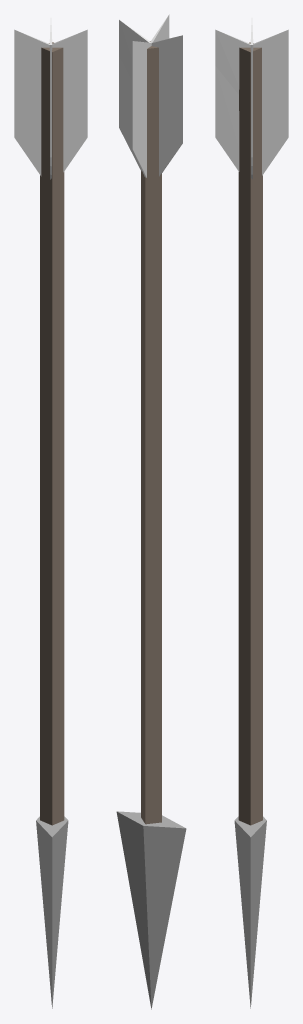
File: wooden_arrow.glb
The picture shows the model from 3 angles, left to right: view 1: azimuth 90°, elevation 25°; view 2: azimuth 150°, elevation 25°; view 3: azimuth 270°, elevation 25°; orthographic projection.
Parts seen in each view (by area): view 1: bow_arrow, bow_arrow.001; view 2: bow_arrow, bow_arrow.001; view 3: bow_arrow, bow_arrow.001.
Boxes of the visible parts, x1,y1,x2,y2 form: bow_arrow: (36, 42, 68, 1008); bow_arrow.001: (14, 18, 87, 179); bow_arrow: (116, 41, 186, 1009); bow_arrow.001: (119, 14, 182, 177); bow_arrow: (234, 42, 266, 1008); bow_arrow.001: (215, 18, 288, 179).
Bounding box in the file's own units: 0.0513 × 0.6876 × 0.0467.
3 materials, 1 textured.
